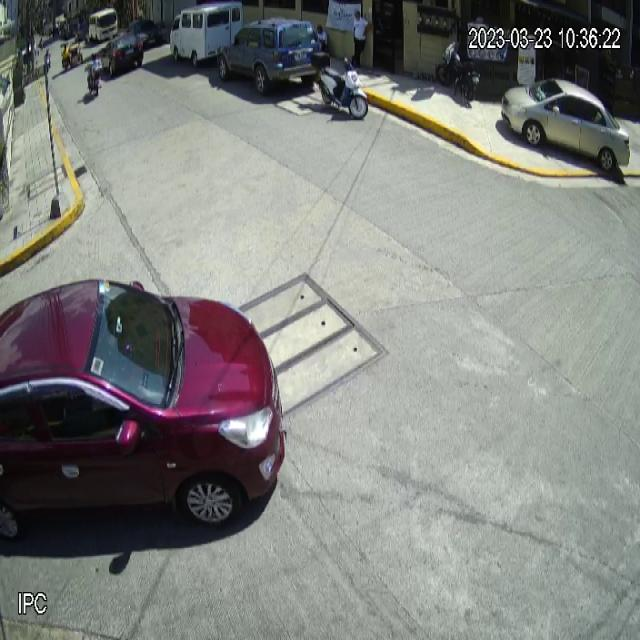Car: (0, 272, 289, 539), (500, 76, 631, 175), (216, 17, 322, 98)
Motorcycle: (310, 49, 370, 121)
Van: (169, 1, 245, 67)
